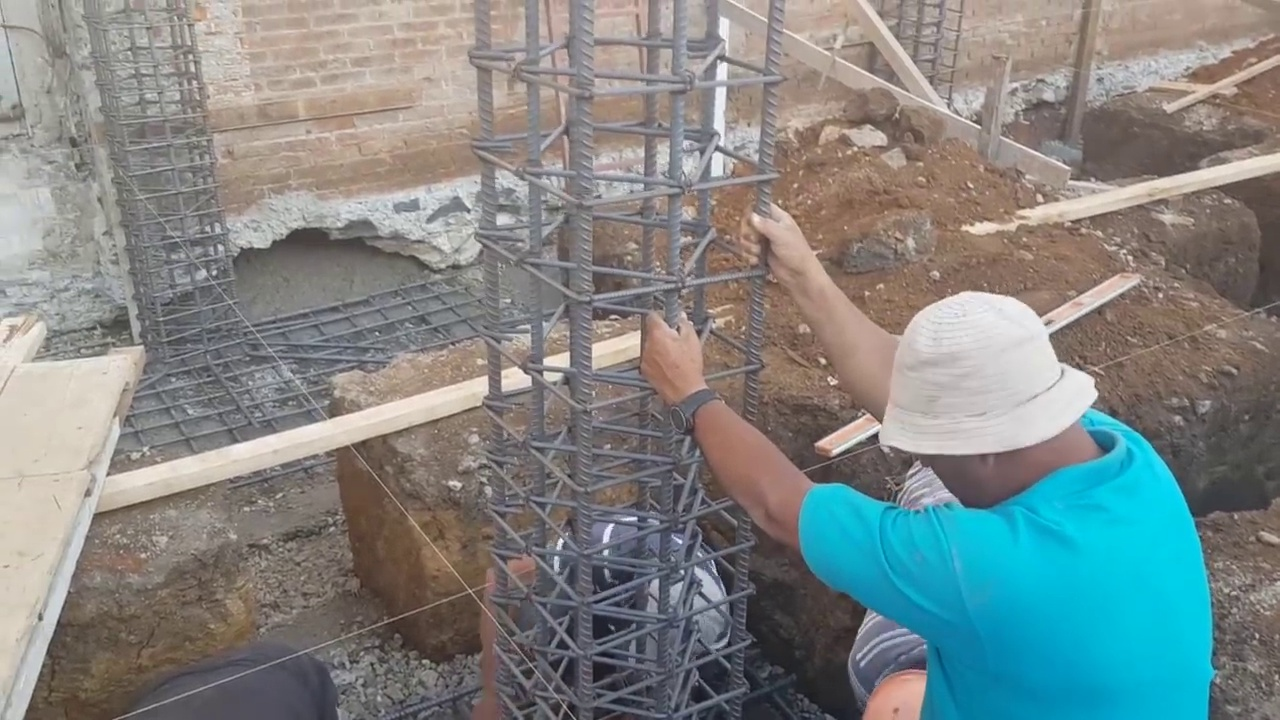helmet-off: (862, 305, 1121, 503), (640, 563, 726, 686)
person: (703, 272, 1217, 720), (476, 512, 733, 716)
